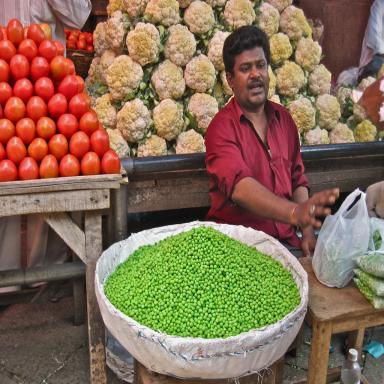plasticbag: (312, 186, 369, 289), (372, 216, 384, 252)
